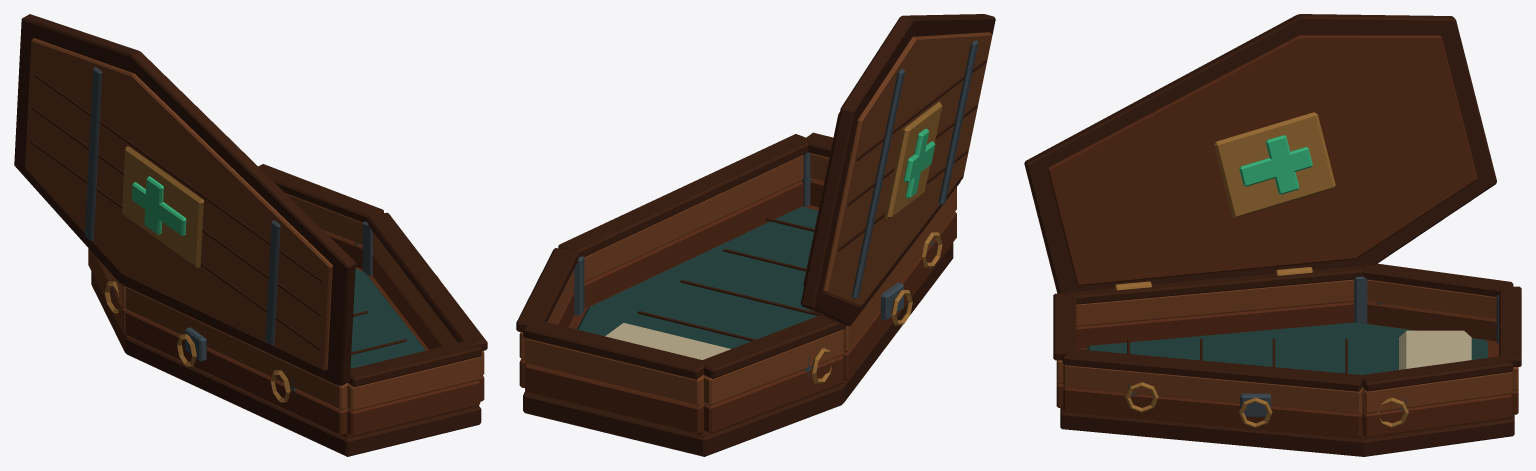
The model's file is k-coffin.glb.
3 views of the same model, side by side, from view 1: azimuth 30°, elevation 25°; view 2: azimuth 150°, elevation 25°; view 3: azimuth 270°, elevation 25° (orthographic). The views are drawn at different scales.
Parts seen in each view (by area): view 1: CoffinLid, CoffinBody; view 2: CoffinBody, CoffinLid; view 3: CoffinLid, CoffinBody.
Boxes of the visible parts, x1,y1,x2,y2 form: CoffinLid: [14, 14, 355, 385]; CoffinBody: [88, 164, 487, 456]; CoffinBody: [516, 132, 960, 456]; CoffinLid: [800, 14, 995, 326]; CoffinLid: [1024, 14, 1496, 293]; CoffinBody: [1053, 263, 1521, 456].
Bounding box in the file's own units: 1.52 × 1.53 × 2.19.
